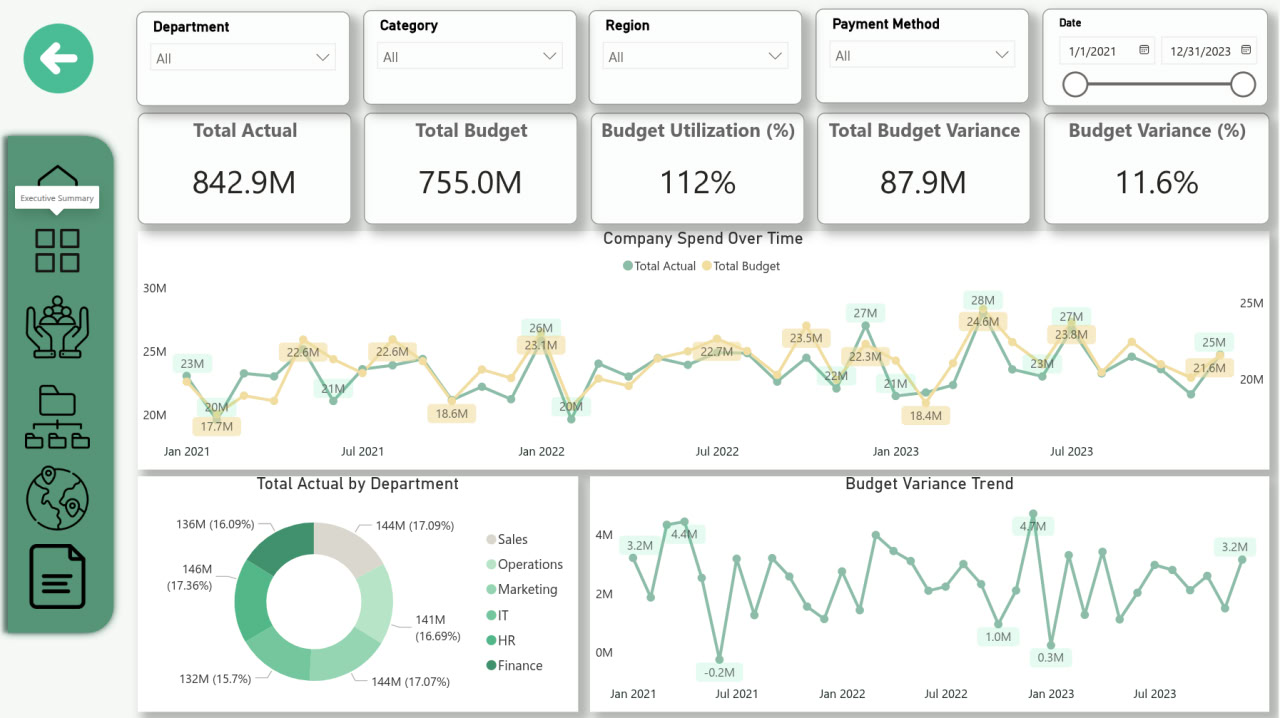

What the dashboard file says about the page in this screenshot:
{"tool":"powerbi","page":{"name":"Executive Summary","canvas":[1280,720],"ordinal":1},"visuals":[{"type":"lineChart","title":"Company Spend Over Time","fields":{"Y":["Measures_.Total Actual"],"Category":["Calendar.Date.Variation.Date Hierarchy.Year","Calendar.Date.Variation.Date Hierarchy.Quarter","Calendar.Date.Variation.Date Hierarchy.Month","Calendar.Date.Variation.Date Hierarchy.Day"],"Y2":["Measures_.Total Budget"]},"box":[137.8,231.4,1132.6,239.2],"z":0},{"type":"slicer","fields":{"Values":["Data.Payment Method"]},"box":[816.6,8.3,213.5,95.4],"z":1000,"group":"g2"},{"type":"group","id":"g1","title":"Group 1","box":[137.8,113,1132.6,112.1],"z":1000},{"type":"slicer","fields":{"Values":["Calendar.Date"]},"box":[1043.7,8.3,225.6,98.4],"z":2000,"group":"g2"},{"type":"shape","box":[0,128.3,121.7,513.3],"z":2000},{"type":"donutChart","fields":{"Y":["Measures_.Total Actual"],"Category":["Data.Department"]},"box":[137.8,477,440.6,236.2],"z":2000,"group":"g3"},{"type":"slicer","fields":{"Values":["Data.Region"]},"box":[589.4,9.8,213.5,95.4],"z":3000,"group":"g2"},{"type":"image","box":[25,218.3,65,65],"z":3000},{"type":"lineChart","title":"Budget Variance Trend","fields":{"Y":["Measures_.Variance"],"Category":["Calendar.Date.Variation.Date Hierarchy.Year","Calendar.Date.Variation.Date Hierarchy.Quarter","Calendar.Date.Variation.Date Hierarchy.Month","Calendar.Date.Variation.Date Hierarchy.Day"]},"box":[590.5,477,679.9,236.2],"z":3000,"group":"g3"},{"type":"group","id":"g2","title":"Group 3","box":[136.7,8.3,1131.7,98.3],"z":4000},{"type":"slicer","fields":{"Values":["Data.Category"]},"box":[363.8,9.8,213.5,95.4],"z":4000,"group":"g2"},{"type":"slicer","fields":{"Values":["Data.Department"]},"box":[136.7,11.3,213.5,95.4],"z":5000,"group":"g2"},{"type":"image","box":[25,295,65,65],"z":5000},{"type":"image","box":[25,385,65,65],"z":6000},{"type":"card","title":"Budget Variance (%)","fields":{"Values":["Measures_.Variance %"]},"box":[1044.8,113,225.6,112.1],"z":7000,"group":"g1"},{"type":"image","box":[25,466.7,65,65],"z":7000},{"type":"card","title":"Total Budget Variance","fields":{"Values":["Measures_.Variance"]},"box":[818.1,113,213.5,112.1],"z":8000,"group":"g1"},{"type":"image","box":[25,545,65,65],"z":8000},{"type":"card","title":"Budget Utilization (%)","fields":{"Values":["Measures_.Budget Utilization Rate"]},"box":[591.3,113,213.5,112.1],"z":9000,"group":"g1"},{"type":"image","box":[25,153.3,65,65],"z":9000},{"type":"card","title":"Total Actual","fields":{"Values":["Measures_.Total Actual"]},"box":[137.8,113,213.5,112.1],"z":10000,"group":"g1"},{"type":"group","id":"g3","title":"Group 2","box":[137.8,477,1132.6,236.2],"z":10000},{"type":"image","box":[18.3,23.3,80,70],"z":11000},{"type":"card","title":"Total Budget","fields":{"Values":["Measures_.Total Budget"]},"box":[364.6,113,213.5,112.1],"z":11000,"group":"g1"}]}

Visuals, with their boxes on the page's 1280x720 design canvas (x1, y1, x2, y2). These are canvas units, not pixel positions in the 1280x718 screenshot, which may show the page scaled, cropped or inside an application window:
"Company Spend Over Time" lineChart: Rect(138, 231, 1270, 471)
slicer - Data.Payment Method: Rect(817, 8, 1030, 104)
"Group 1" group: Rect(138, 113, 1270, 225)
slicer - Calendar.Date: Rect(1044, 8, 1269, 107)
shape: Rect(0, 128, 122, 642)
donutChart - Measures_.Total Actual x Data.Department: Rect(138, 477, 578, 713)
slicer - Data.Region: Rect(589, 10, 803, 105)
image: Rect(25, 218, 90, 283)
"Budget Variance Trend" lineChart: Rect(590, 477, 1270, 713)
"Group 3" group: Rect(137, 8, 1268, 107)
slicer - Data.Category: Rect(364, 10, 577, 105)
slicer - Data.Department: Rect(137, 11, 350, 107)
image: Rect(25, 295, 90, 360)
image: Rect(25, 385, 90, 450)
"Budget Variance (%)" card: Rect(1045, 113, 1270, 225)
image: Rect(25, 467, 90, 532)
"Total Budget Variance" card: Rect(818, 113, 1032, 225)
image: Rect(25, 545, 90, 610)
"Budget Utilization (%)" card: Rect(591, 113, 805, 225)
image: Rect(25, 153, 90, 218)
"Total Actual" card: Rect(138, 113, 351, 225)
"Group 2" group: Rect(138, 477, 1270, 713)
image: Rect(18, 23, 98, 93)
"Total Budget" card: Rect(365, 113, 578, 225)
